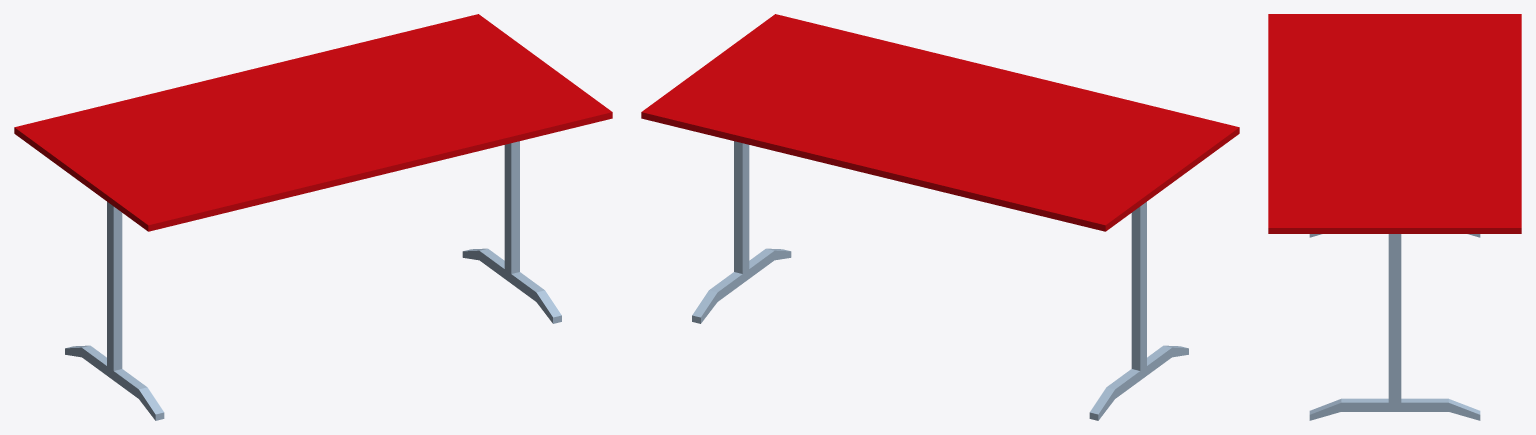
Rendered from newmtlDesk.obj.
The picture shows the model from 3 angles, left to right: view 1: azimuth 30°, elevation 25°; view 2: azimuth 150°, elevation 25°; view 3: azimuth 270°, elevation 25°; orthographic projection. The views are drawn at different scales.
Visible parts, largest first — view 1: office_desk; view 2: office_desk; view 3: office_desk.
Part boxes in pixels (left/top/right/bottom): office_desk: left=14, top=14, right=612, bottom=420; office_desk: left=641, top=14, right=1239, bottom=420; office_desk: left=1268, top=14, right=1521, bottom=420.
Bounding box in the file's own units: 6.36 × 2.86 × 3.18.
